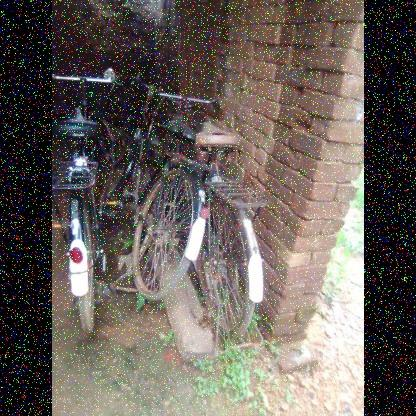Bicycle: (142, 66, 274, 354), (109, 74, 196, 308), (46, 56, 116, 340)
